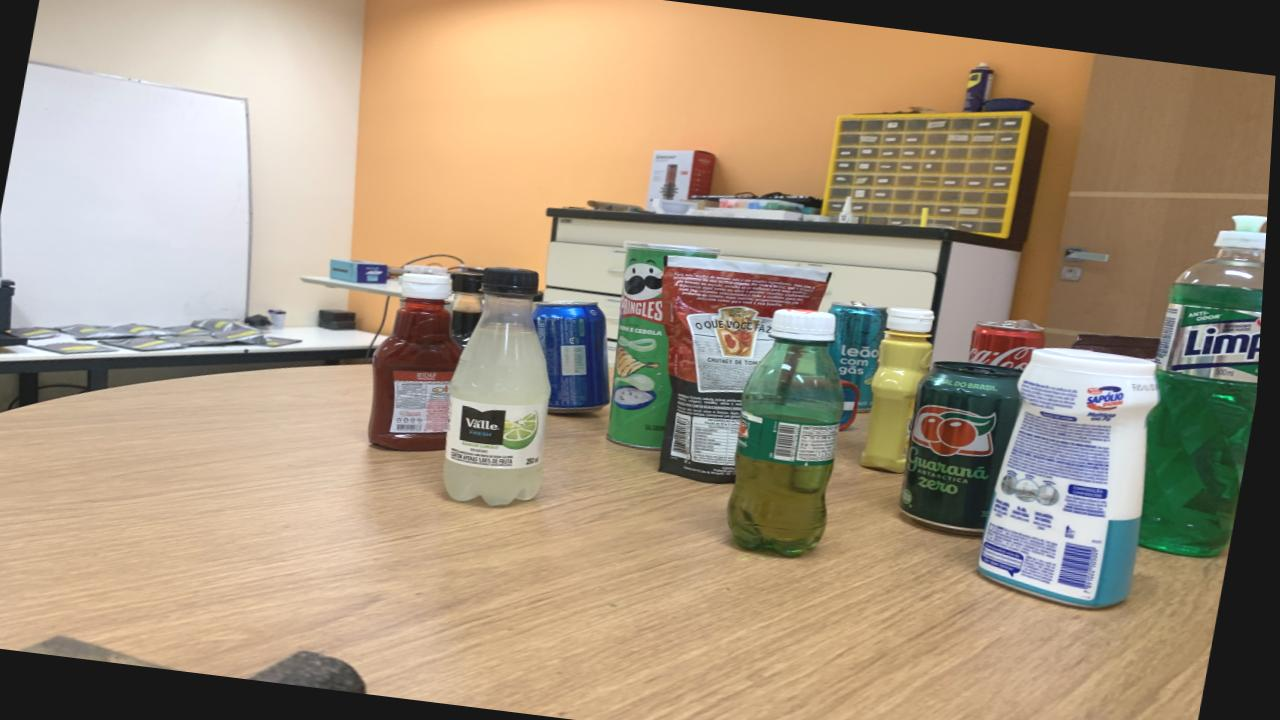Cleaner-Cleanup_Items: (986, 348, 1164, 607)
Coke-Drinks: (973, 319, 1050, 370)
Detergent-Cleanup_Items: (1145, 216, 1269, 558)
English_Sauce-Pantry_Items: (454, 272, 487, 346)
Guarana-Drinks: (733, 309, 849, 557)
Guarana_Can-Drinks: (906, 361, 1027, 534)
Ketchup-Pantry_Items: (373, 273, 466, 451)
Mustard-Pantry_Items: (865, 307, 939, 473)
Pringles-Snacks: (613, 241, 722, 450)
Soda-Drinks: (449, 267, 556, 506)
Tea-Drinks: (833, 301, 891, 429)
Tomato_Sauce-Pantry_Items: (664, 253, 832, 483)
Tonic-Drinks: (537, 300, 615, 413)
